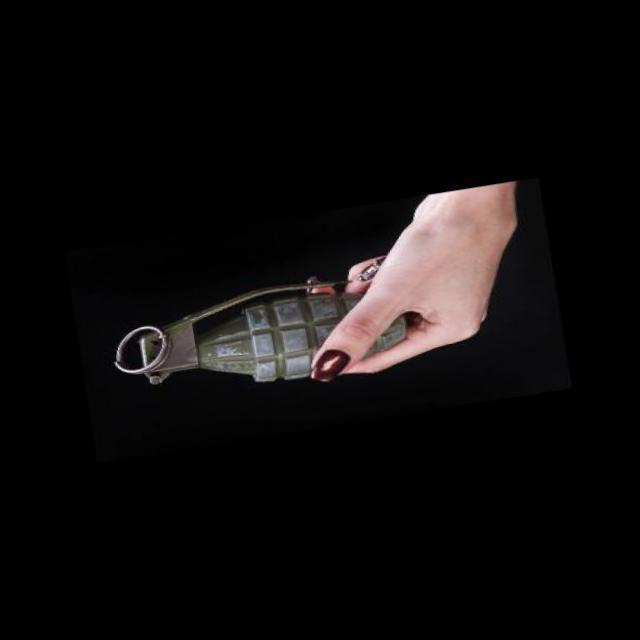grenade: (87, 256, 413, 419)
